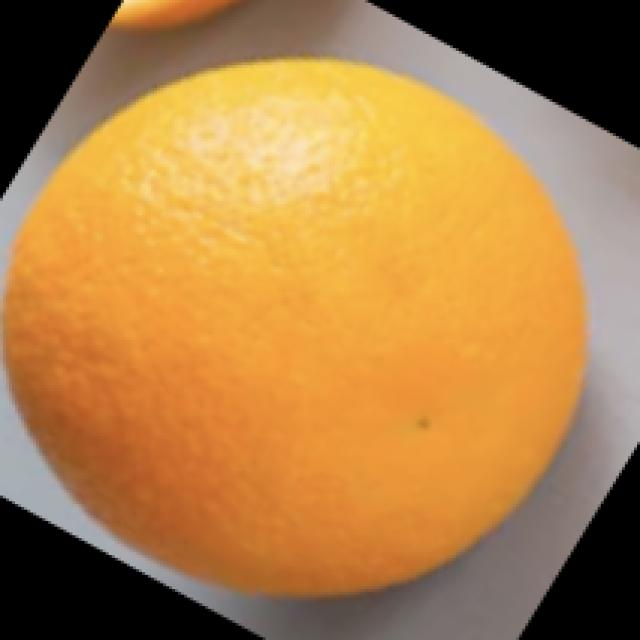orange: (11, 46, 620, 604)
